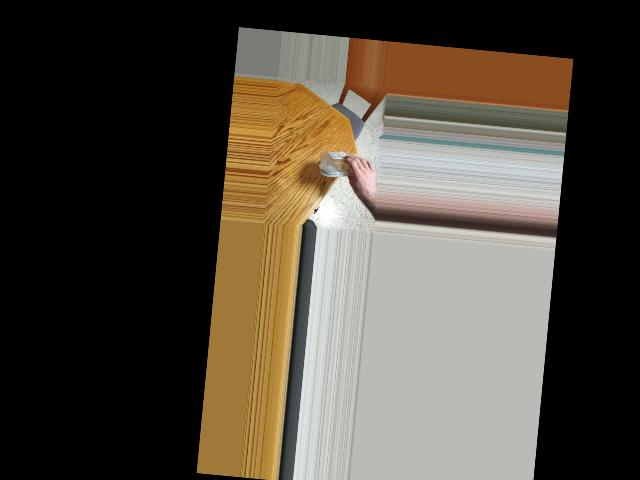cheese: (316, 140, 359, 195)
